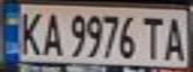6: (118, 12, 142, 60)
7: (100, 11, 121, 58)
9: (63, 10, 87, 57), (84, 11, 103, 58)
A: (160, 12, 190, 62), (39, 8, 66, 57)
K: (15, 7, 45, 56)
T: (139, 12, 166, 61)
